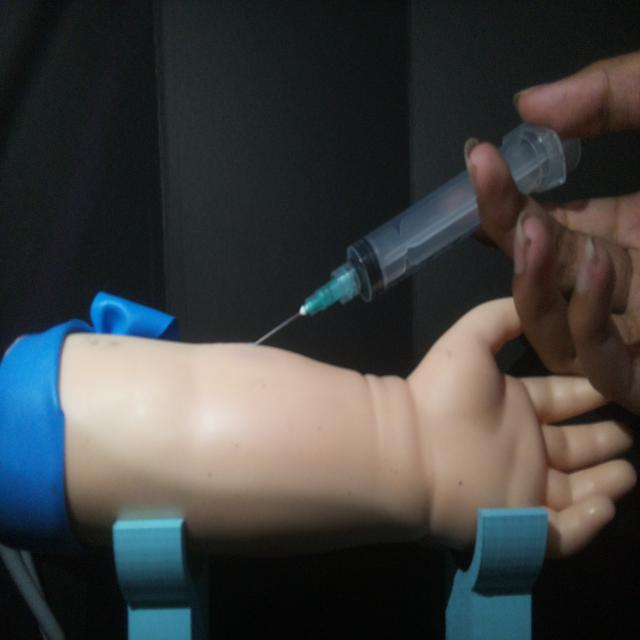28deg: (247, 116, 582, 349)
